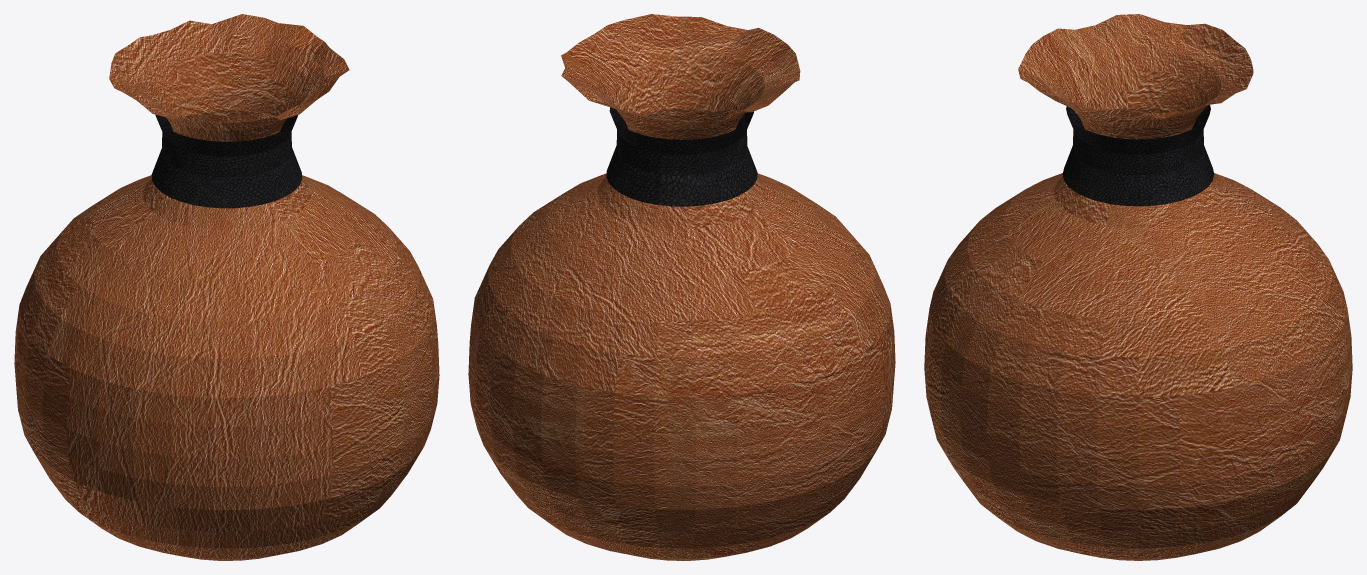
The model's file is satchel.fbx.
3 renders of one model, left to right at view 1: azimuth 30°, elevation 25°; view 2: azimuth 150°, elevation 25°; view 3: azimuth 270°, elevation 25°, orthographic.
Visible parts, largest first — view 1: Cylinder, Cylinder.001; view 2: Cylinder, Cylinder.001; view 3: Cylinder, Cylinder.001.
Boxes of the visible parts, x1,y1,x2,y2 form: Cylinder: (14, 14, 439, 560); Cylinder.001: (151, 114, 302, 208); Cylinder: (468, 14, 895, 560); Cylinder.001: (606, 107, 757, 206); Cylinder: (924, 14, 1352, 560); Cylinder.001: (1062, 104, 1214, 206).
Size of the model in its own units: 92.94 by 110 by 92.94.
